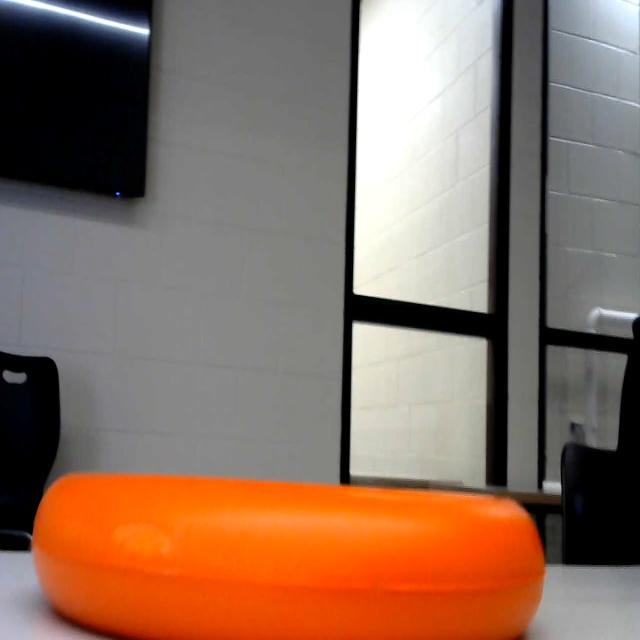note: (32, 469, 541, 640)
